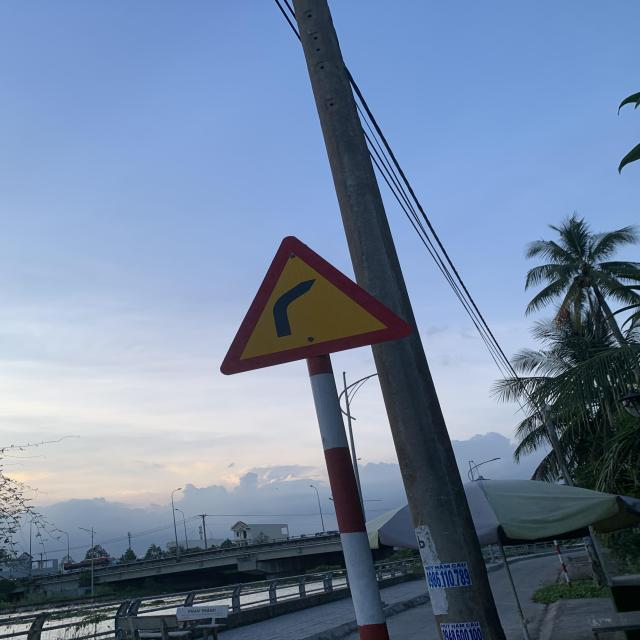Duong_Nguoi_Di_Bo_Cat_Ngang: (219, 235, 411, 376)
